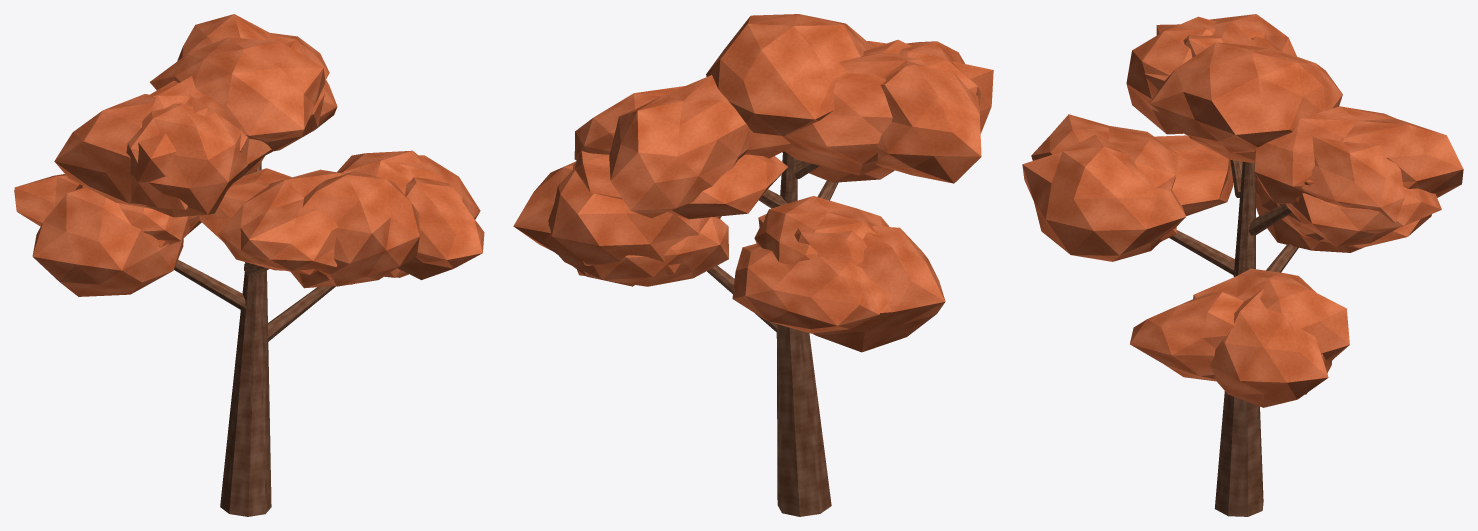
Rendered from red_maple.gltf.
The picture shows the model from 3 angles, left to right: view 1: azimuth 30°, elevation 25°; view 2: azimuth 150°, elevation 25°; view 3: azimuth 270°, elevation 25°; orthographic projection. The views are drawn at different scales.
Visible parts, largest first — view 1: red_maple; view 2: red_maple; view 3: red_maple.
Part boxes in pixels (x1,y1,x2,y2): red_maple: [14, 14, 484, 516]; red_maple: [513, 14, 993, 516]; red_maple: [1022, 14, 1463, 516].
Size of the model in its own units: 6.91 by 7.18 by 6.29.
2 materials, 2 textured.
